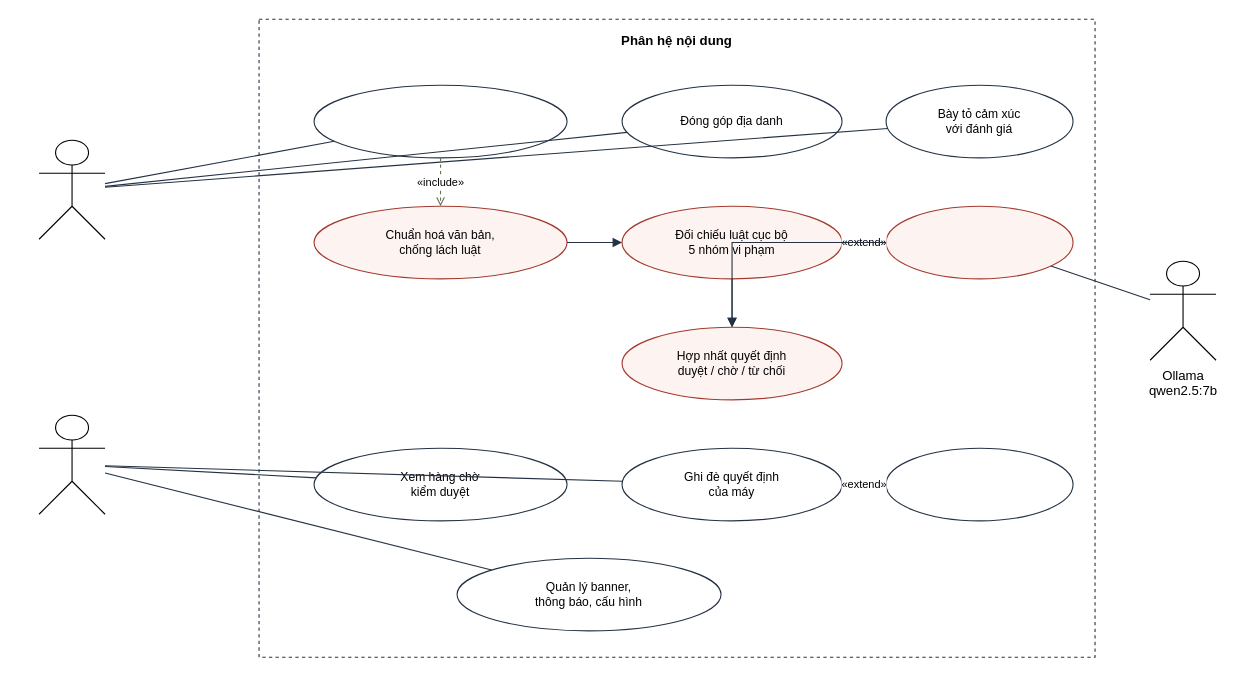
Image size: 1236x677. Some labels were removed from this diagram. The shapes that lost their labels are listed below. From the top down, each one's centre as x and y in pixels, then its label:
(x=440, y=121): Viết đánh giá (đã mua mới được viết)
(x=71, y=189): Khách hàng
(x=979, y=242): Kiểm duyệt ngữ nghĩa (khi có Ollama)
(x=71, y=464): Nhân viên / Admin
(x=979, y=484): Lưu mẫu bị từ chối làm cụm khoá mới
